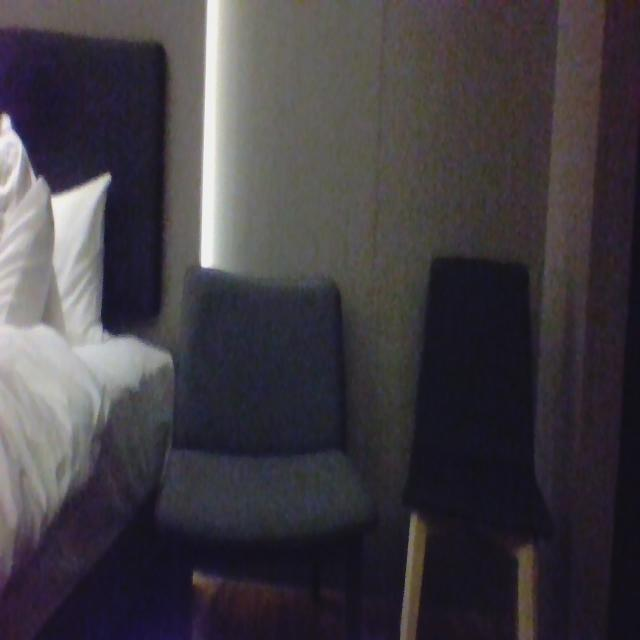empty: (170, 262, 356, 522), (406, 269, 536, 528)
